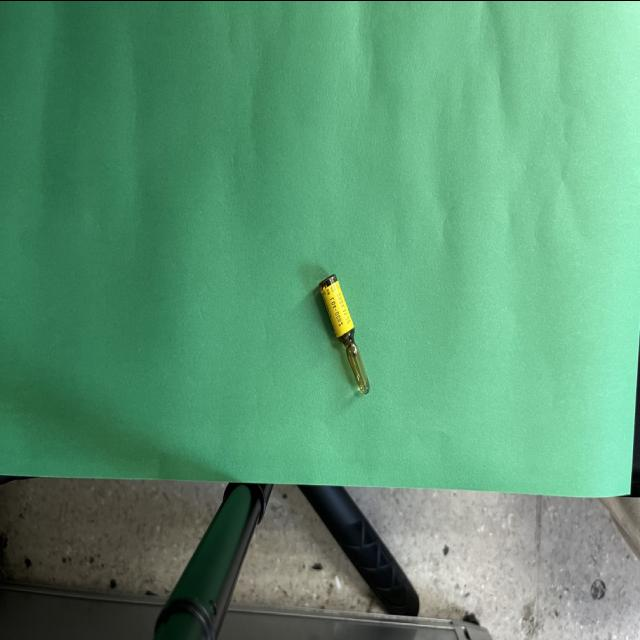Ampoules: (320, 273, 370, 393)
